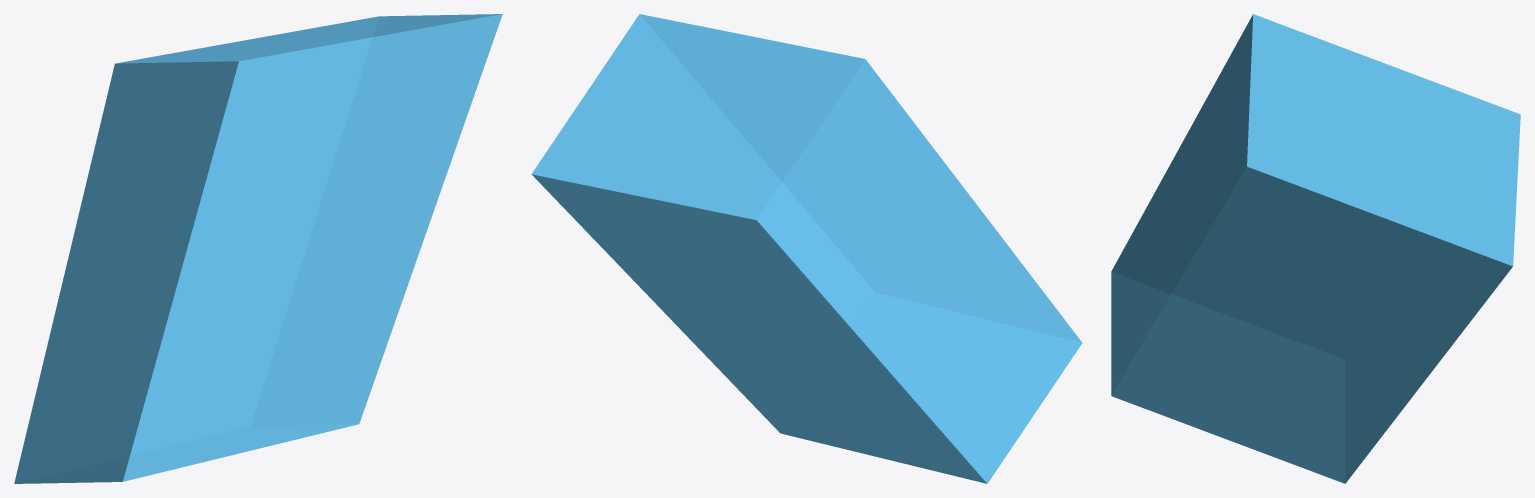
Rendered from Event_420094457_HBrechit_26.fbx.
3 views of the same model, side by side, from view 1: azimuth 30°, elevation 25°; view 2: azimuth 150°, elevation 25°; view 3: azimuth 270°, elevation 25° (orthographic). The views are drawn at different scales.
Visible parts, largest first — view 1: Model; view 2: Model; view 3: Model.
Part boxes in pixels (x1,y1,x2,y2): Model: (14,14,502,483); Model: (531,14,1082,483); Model: (1111,14,1520,483).
Bounding box in the file's own units: 0.8738 × 0.7719 × 0.6491.
